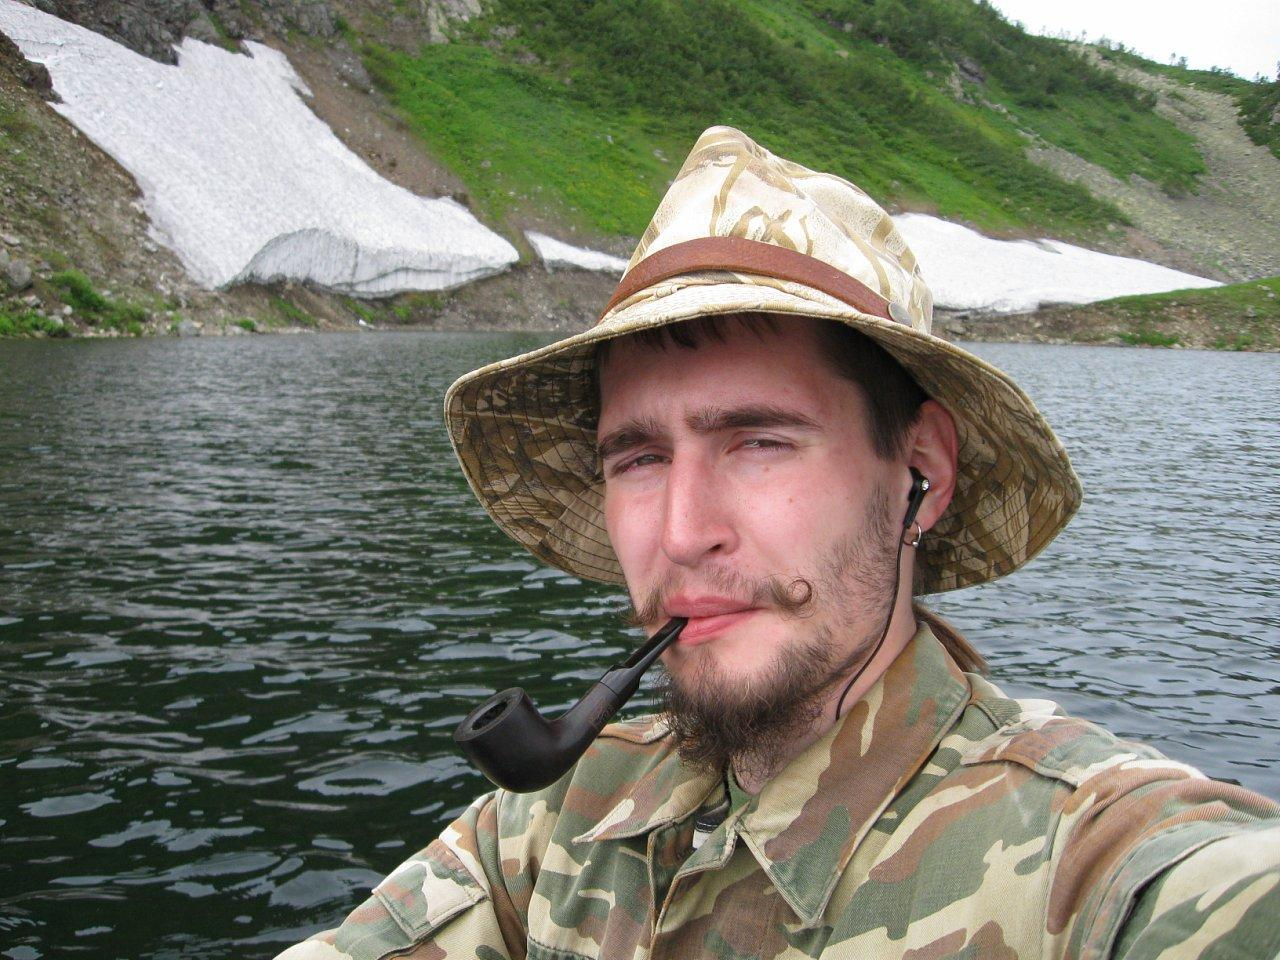trubka: (454, 619, 684, 793)
